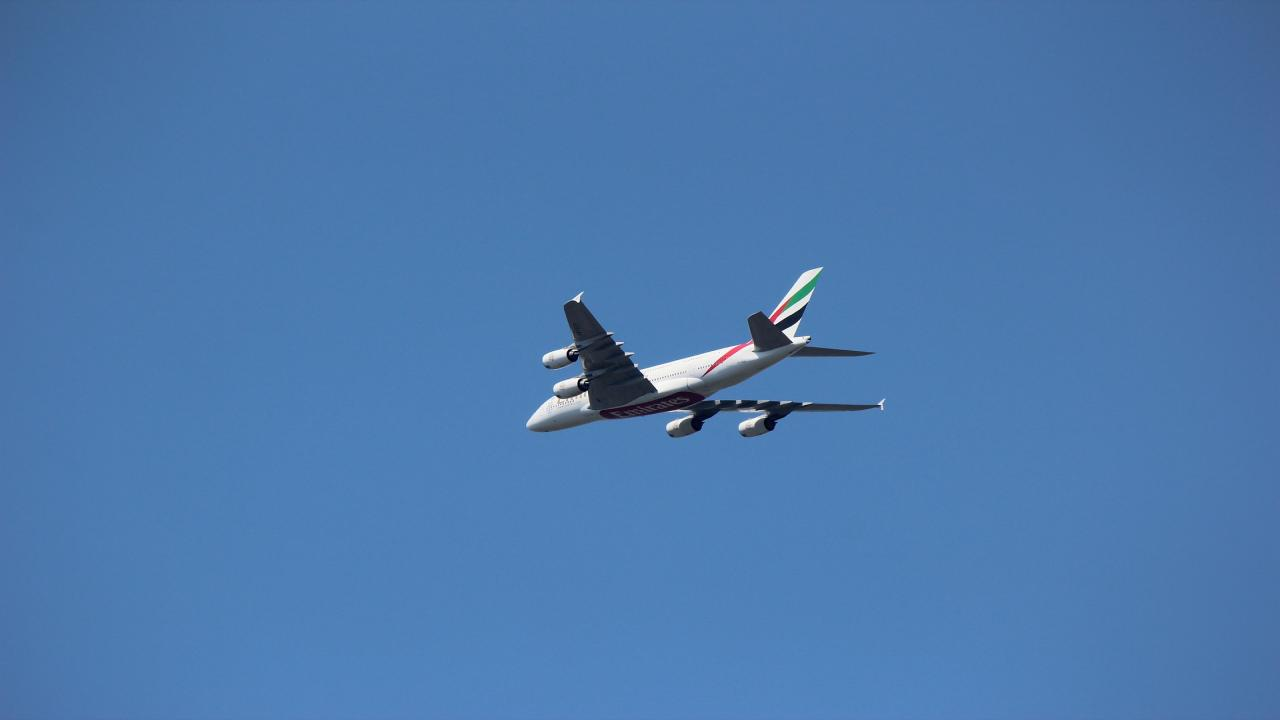Airplane: (516, 256, 895, 447)
